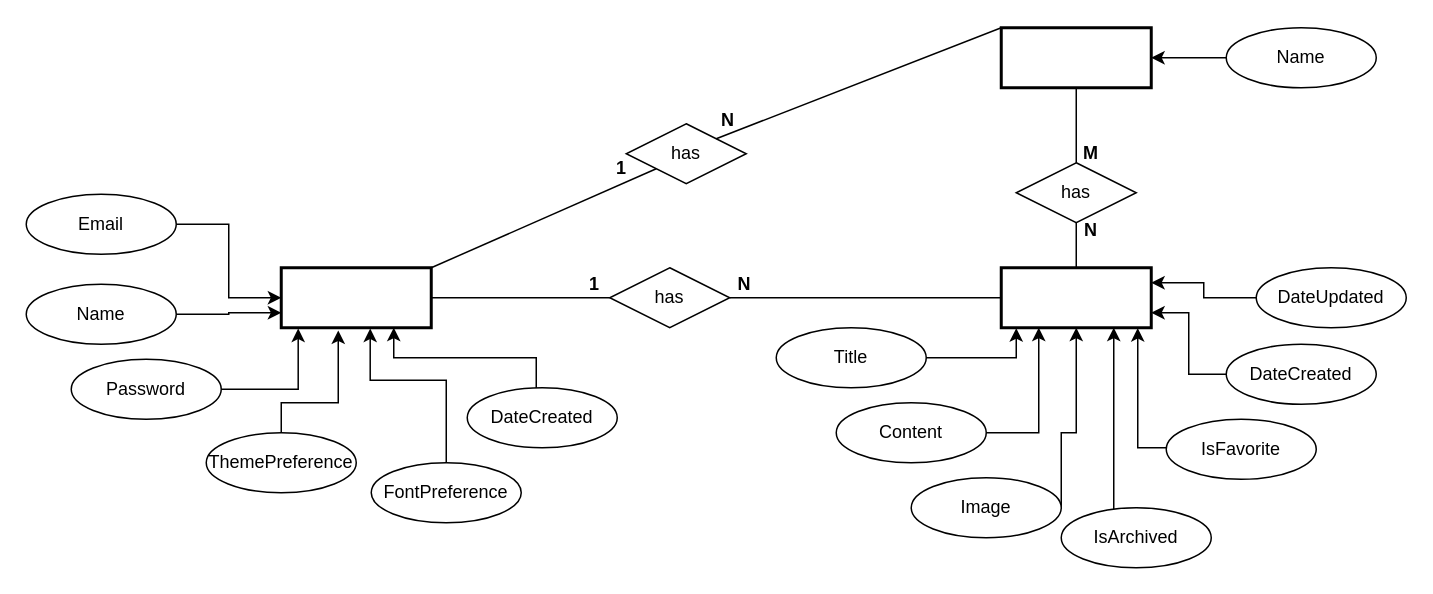
Image size: 1433x594. Some labels were removed from this diagram. The shapes that lost their labels are listed below. From the top down, each one's box as (x1, y1, x2, y2) in pixels, then its label:
(999, 26, 1152, 88): TAG
(279, 266, 432, 328): USER
(999, 266, 1152, 328): NOTE
